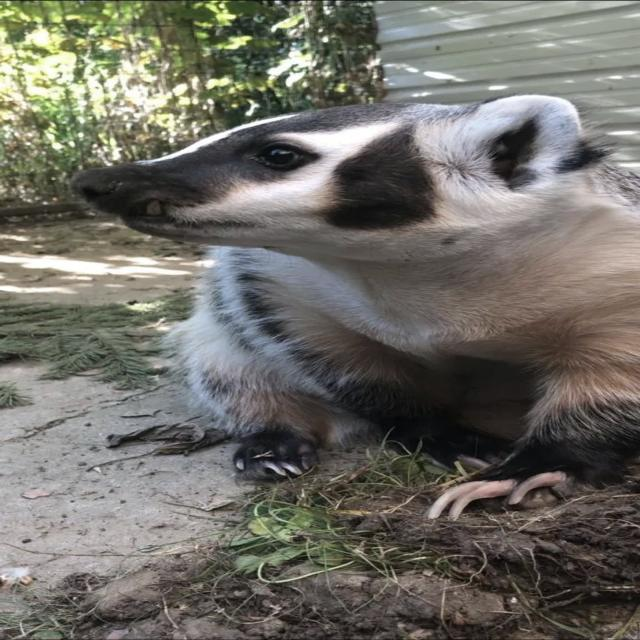badger: (72, 95, 640, 519)
